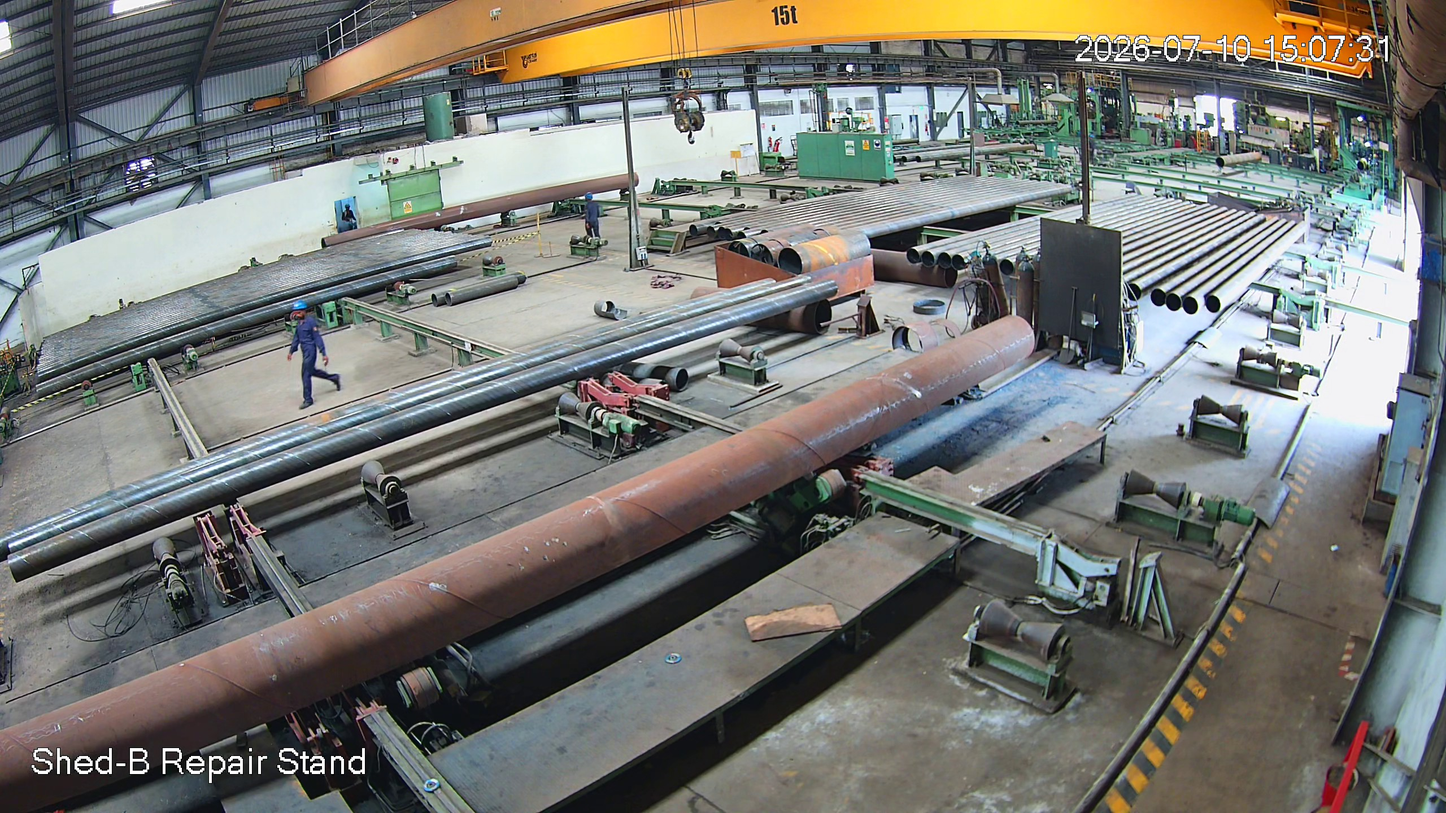Helmet: (292, 297, 315, 328)
Person: (285, 301, 336, 398)
